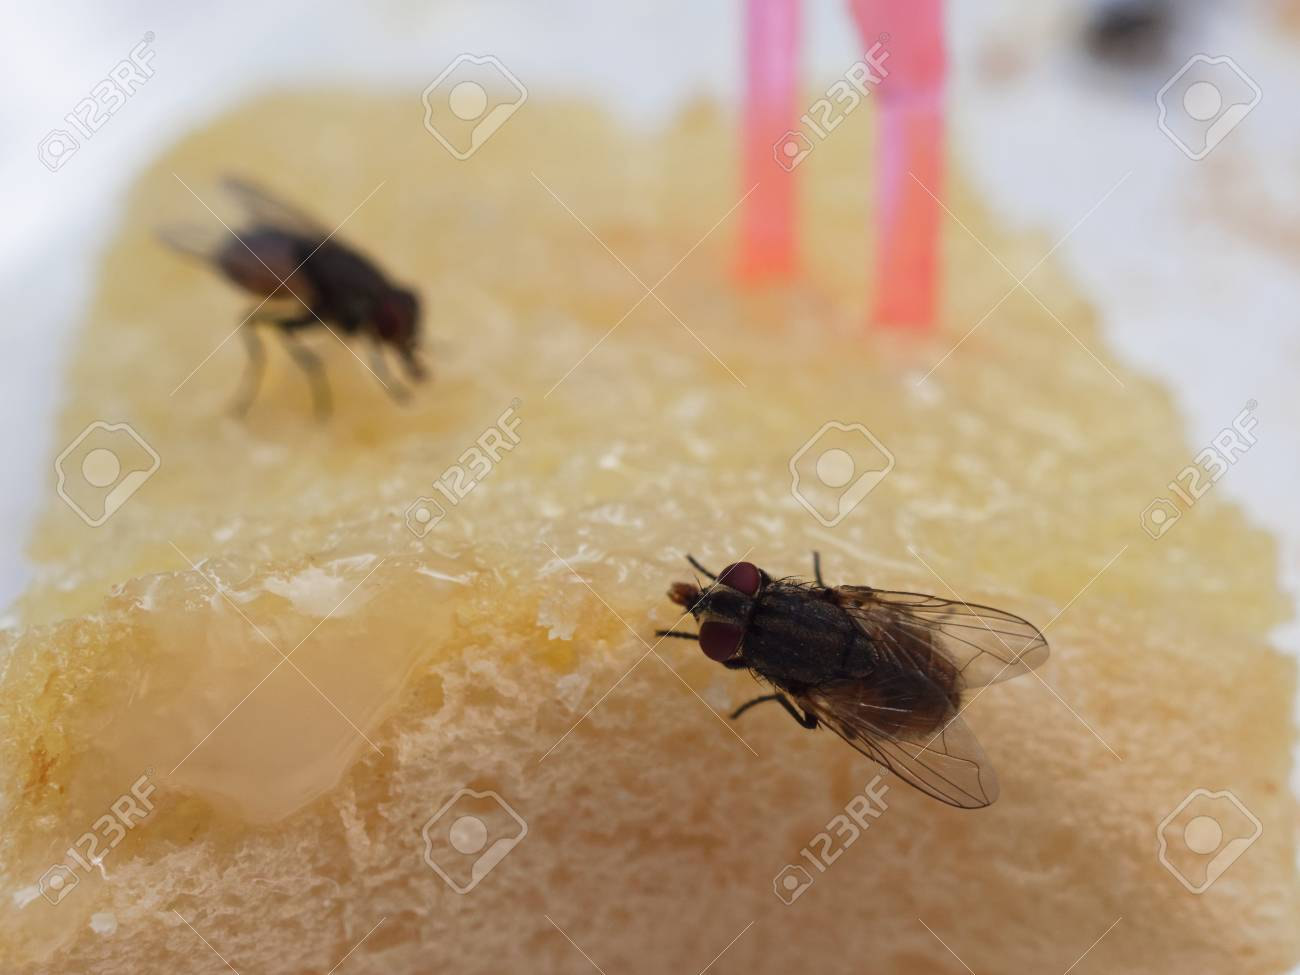fly: (652, 542, 1068, 834)
